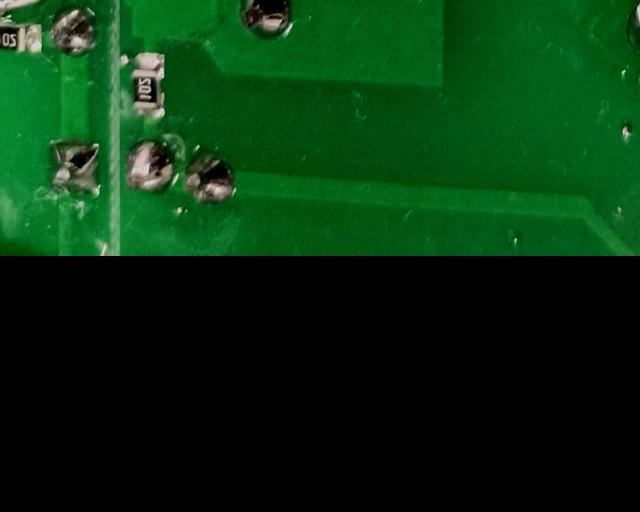chip-resistor: (129, 49, 164, 120), (0, 17, 41, 55)
